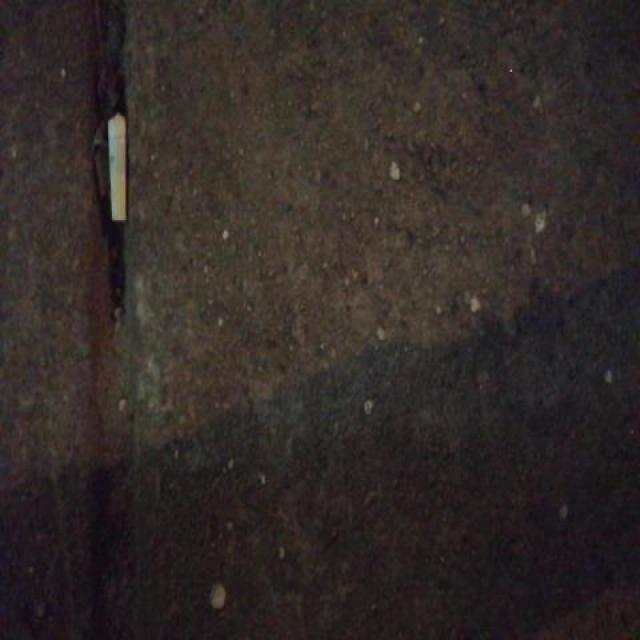non-organic waste: (103, 107, 130, 225)
